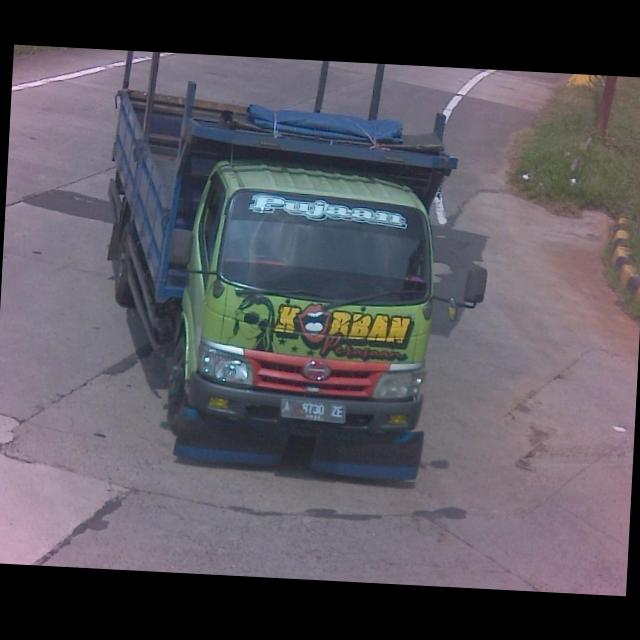plate: (277, 392, 350, 426)
